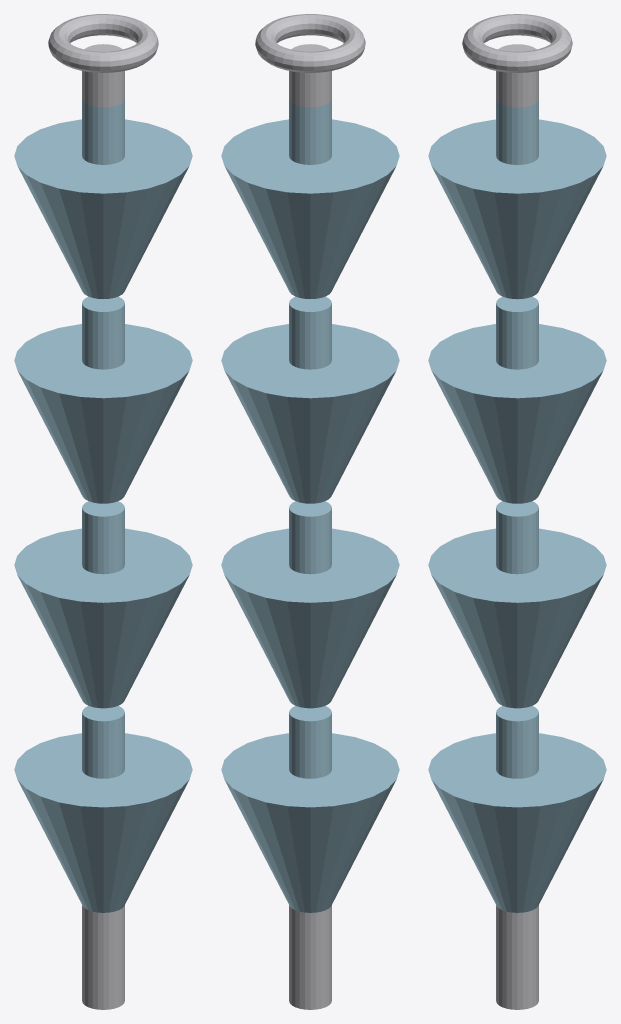
The model's file is Cadena_598mm.fbx.
3 views of the same model, side by side, from view 1: azimuth 30°, elevation 25°; view 2: azimuth 150°, elevation 25°; view 3: azimuth 270°, elevation 25° (orthographic).
Parts seen in each view (by area): view 1: Cadena_598mm; view 2: Cadena_598mm; view 3: Cadena_598mm.
Boxes of the visible parts, x1,y1,x2,y2 form: Cadena_598mm: (14,14,192,1009); Cadena_598mm: (221,14,399,1009); Cadena_598mm: (428,14,606,1009).
Bounding box in the file's own units: 10 × 59.8 × 10.
